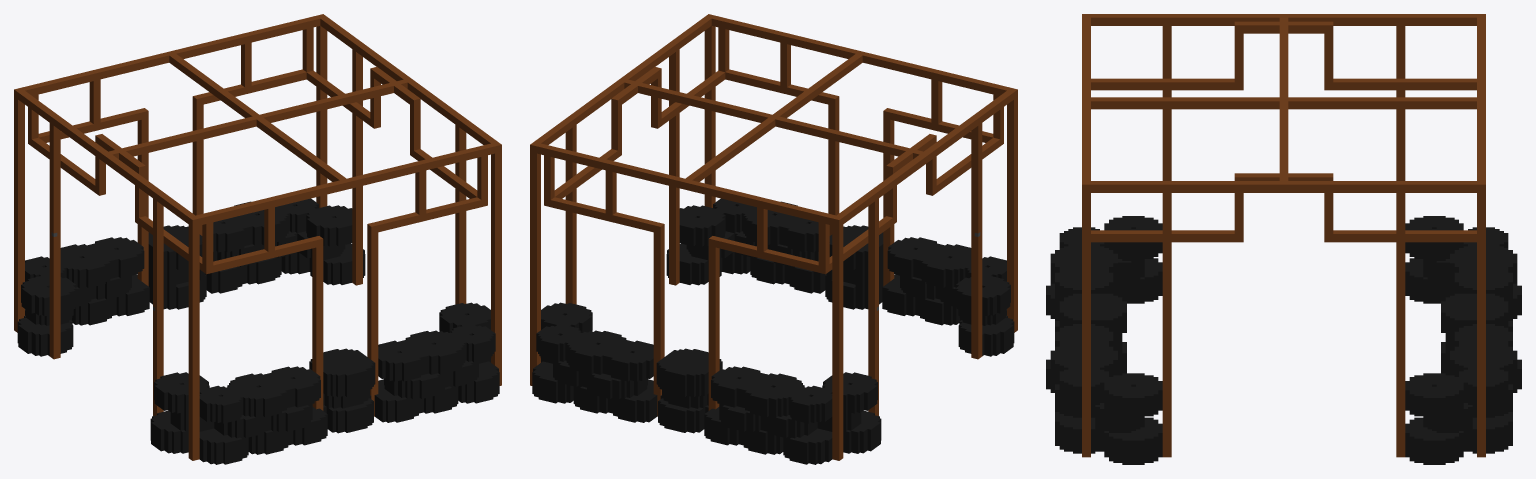
File: shelf.obj
3 renders of one model, left to right at view 1: azimuth 30°, elevation 25°; view 2: azimuth 150°, elevation 25°; view 3: azimuth 270°, elevation 25°, orthographic. The views are drawn at different scales.
Size of the model in its own units: 9.8 by 6.7 by 10.6.
1 material, 1 textured.
